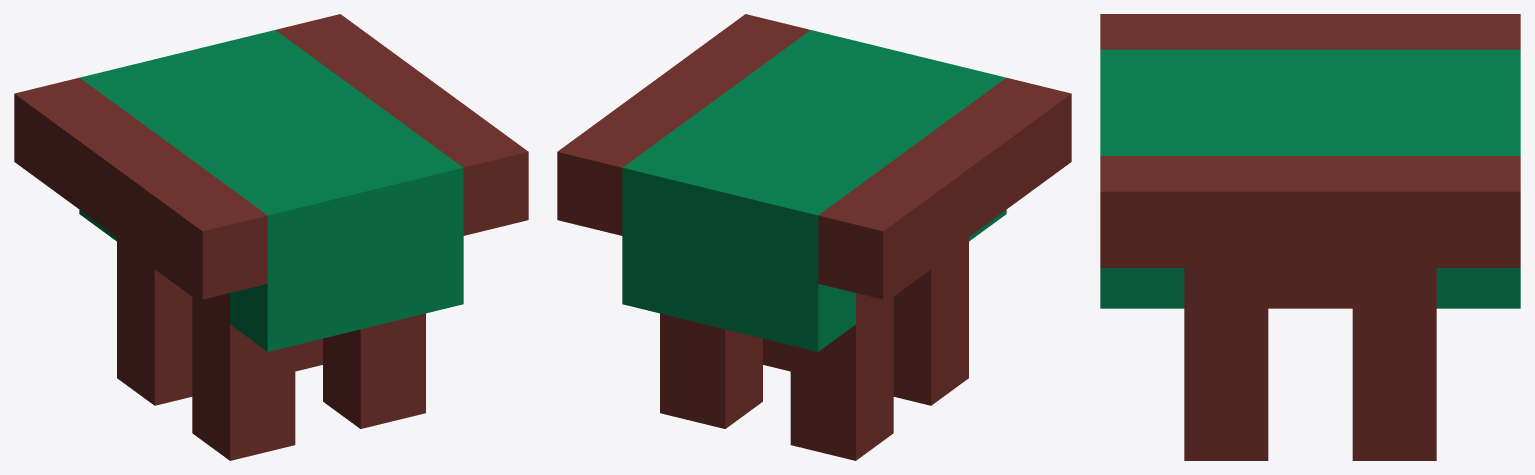
The model's file is small_bench_b_green.obj.
3 renders of one model, left to right at view 1: azimuth 30°, elevation 25°; view 2: azimuth 150°, elevation 25°; view 3: azimuth 270°, elevation 25°, orthographic. The views are drawn at different scales.
Bounding box in the file's own units: 0.5 × 0.4 × 0.5.
Materials: 1 (1 with a texture image).
